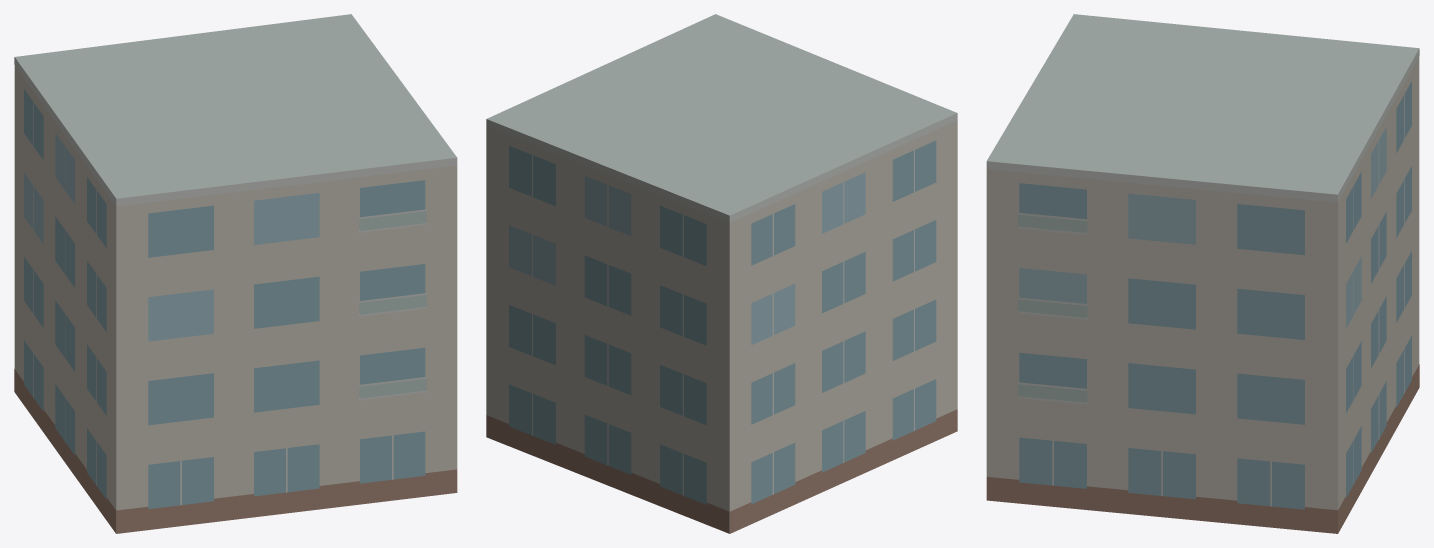
The model's file is survey-upis-32994397.glb.
3 renders of one model, left to right at view 1: azimuth 30°, elevation 25°; view 2: azimuth 150°, elevation 25°; view 3: azimuth 270°, elevation 25°, orthographic. The views are drawn at different scales.
Visible parts, largest first — view 1: survey-upis-32994397.tmp; view 2: survey-upis-32994397.tmp; view 3: survey-upis-32994397.tmp.
Boxes of the visible parts, box(x1,y1,x2,y2) form: survey-upis-32994397.tmp: box(14, 14, 457, 533); survey-upis-32994397.tmp: box(486, 14, 957, 533); survey-upis-32994397.tmp: box(986, 14, 1419, 533).
Bounding box in the file's own units: 12 × 10.5 × 12.16.
